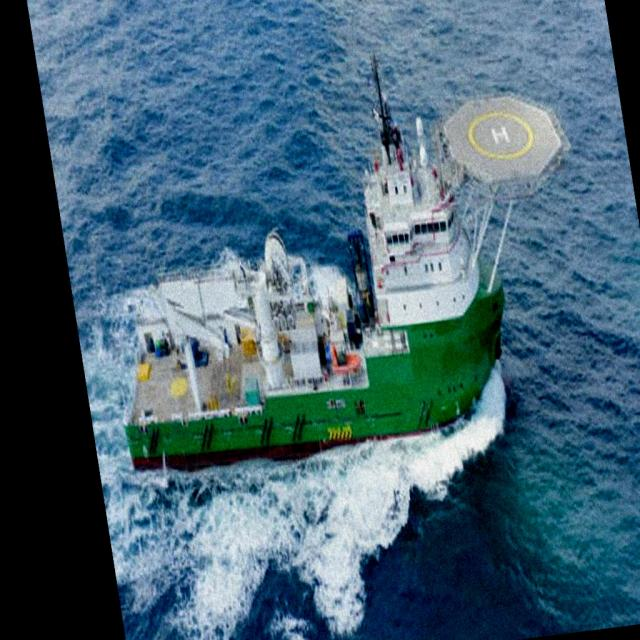helipad: (464, 109, 536, 161)
